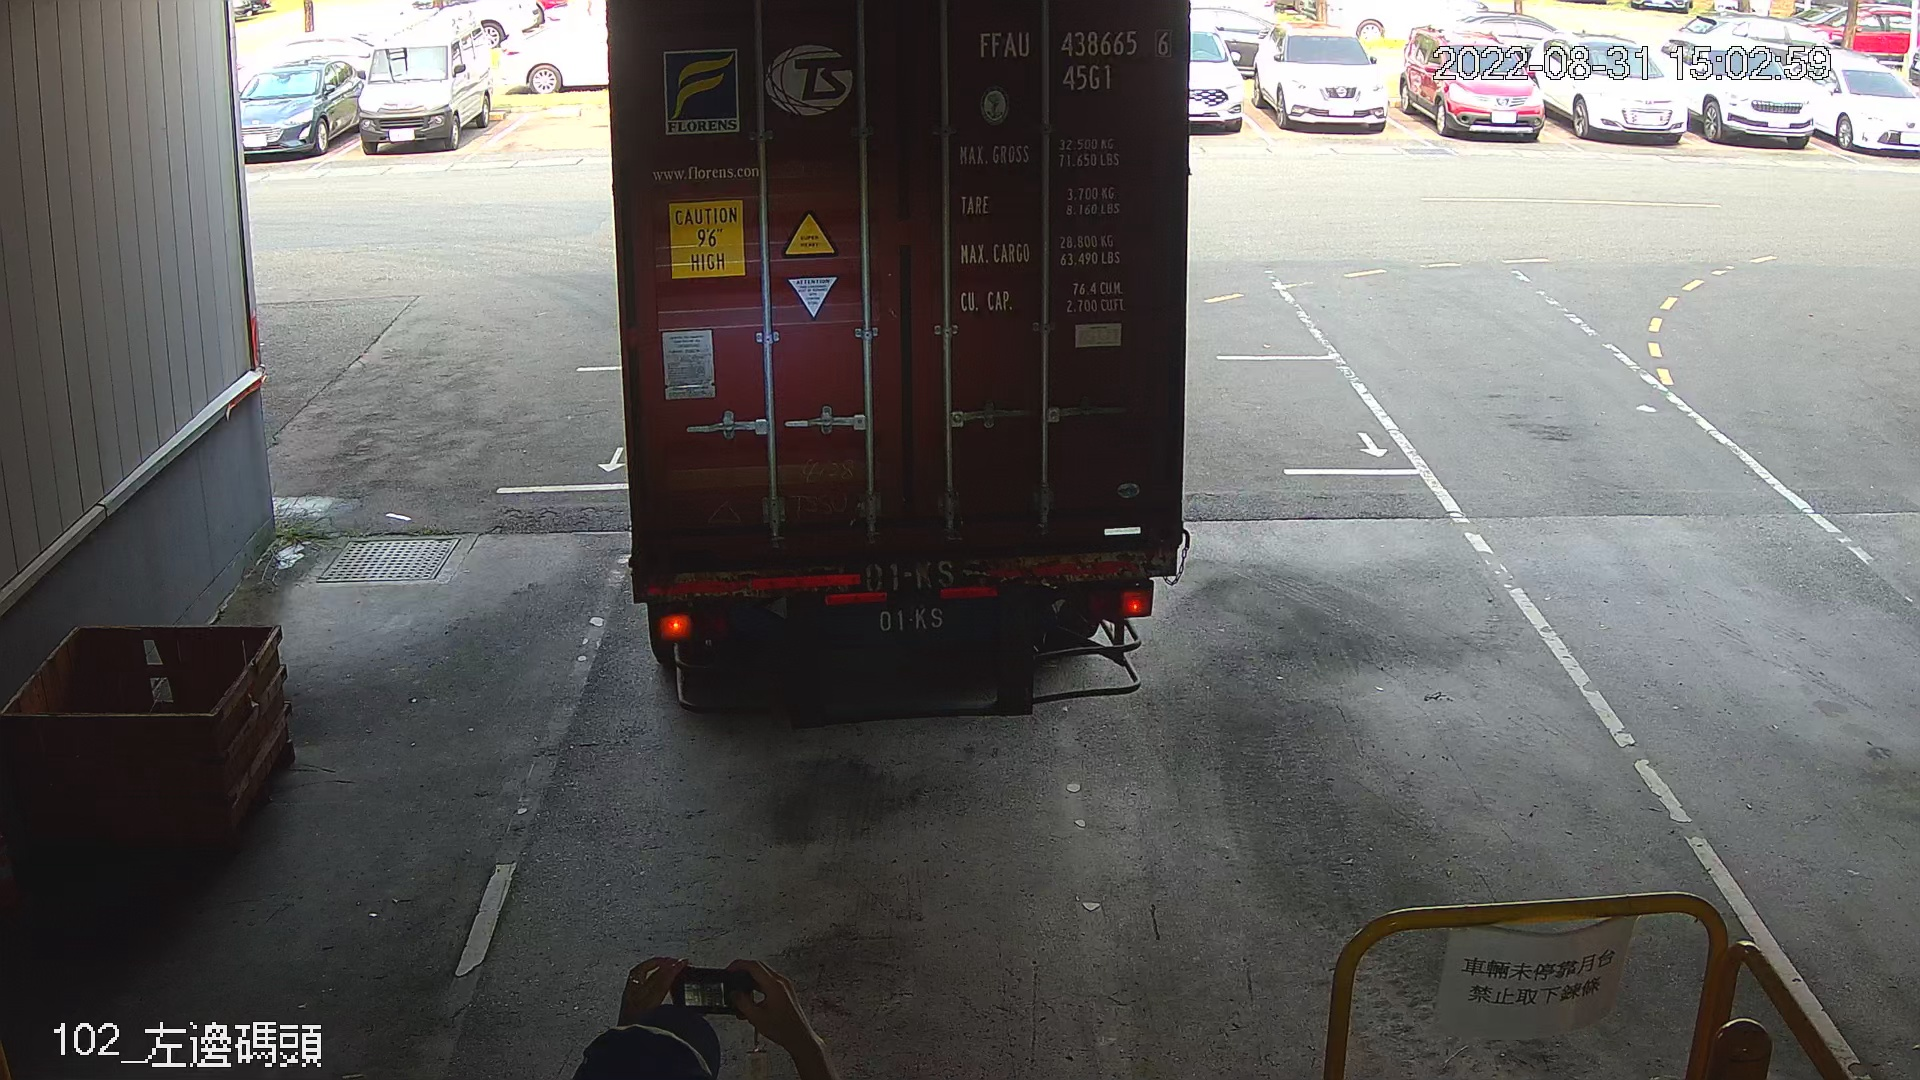container: (972, 22, 1182, 98)
